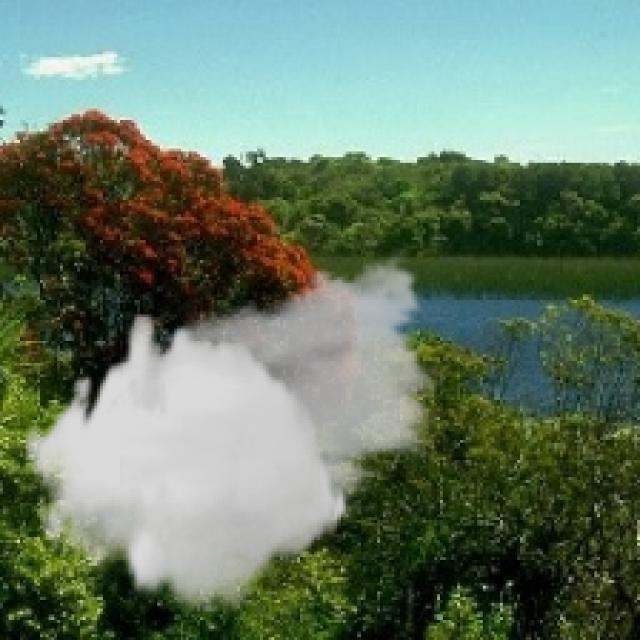Smoke: (23, 246, 446, 612)
